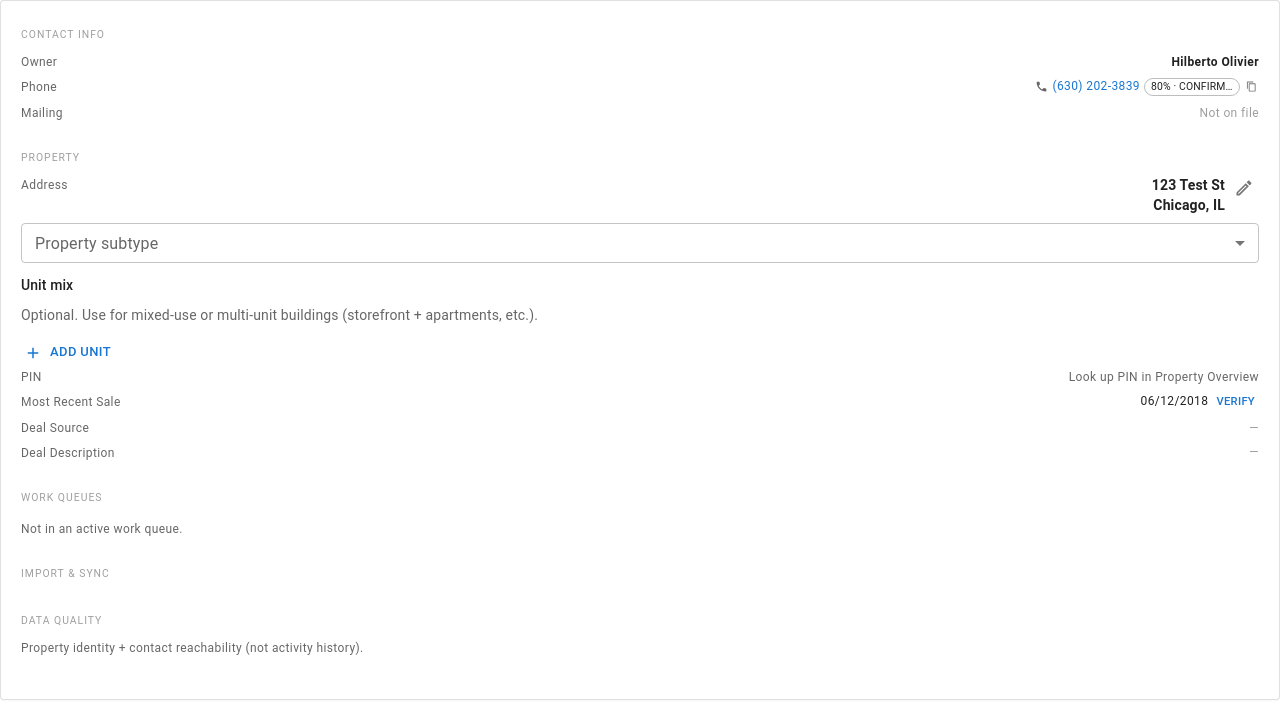
Scenario: PropertySidebar always-visible sale and PIN › surfaces skip reason instead of checked when enrichment is skipped
This screenshot has width=1280, height=720.
Click the button with test id "sidebar-verify-sale-date" at (1236, 402), box 1212,392 -> 1259,412
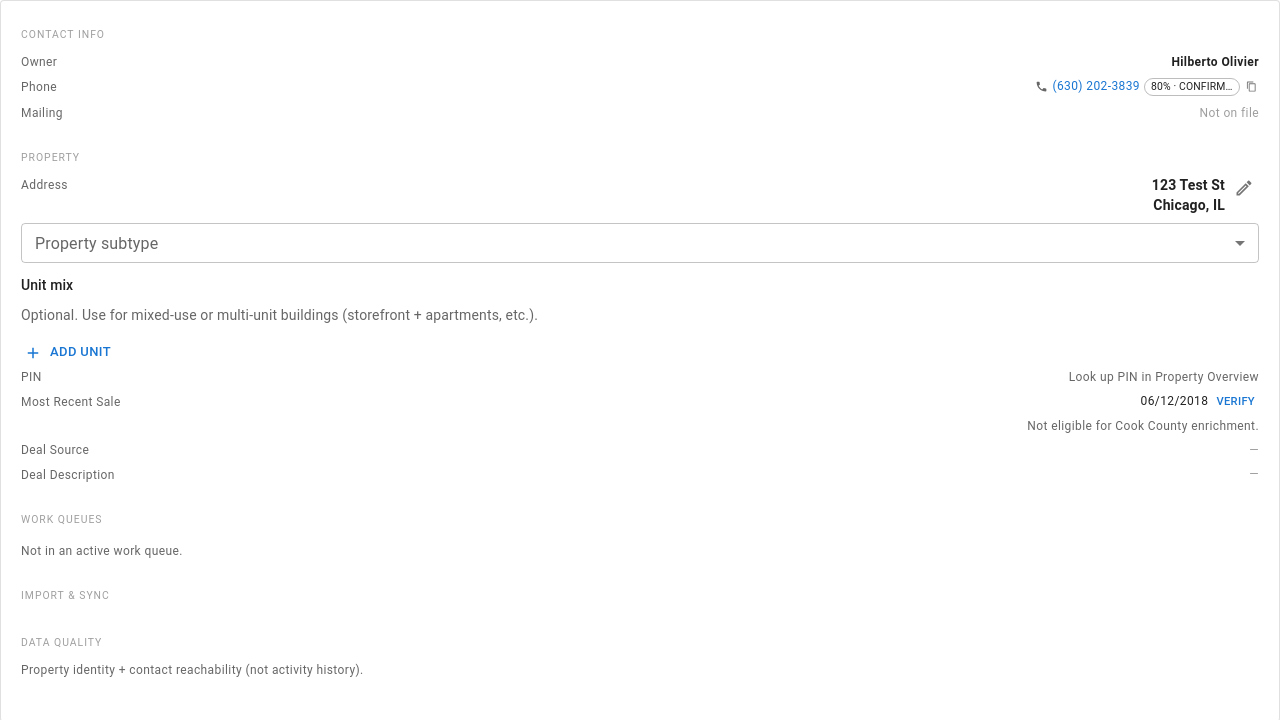
Check: the text "Not eligible for Cook County enrichment." is shown, box 1027,419 -> 1259,433
